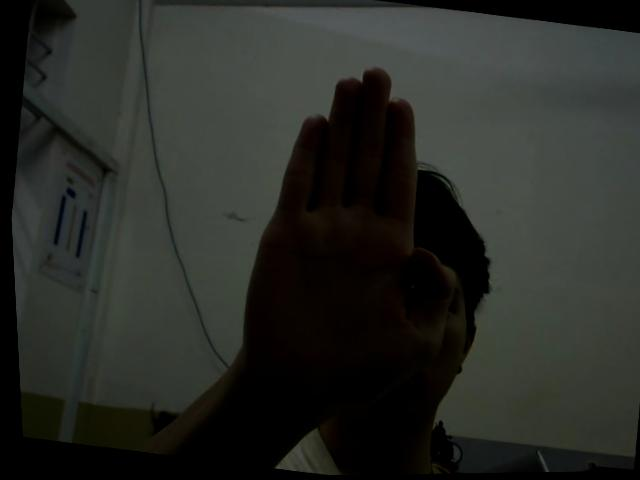B: (216, 50, 486, 426)
